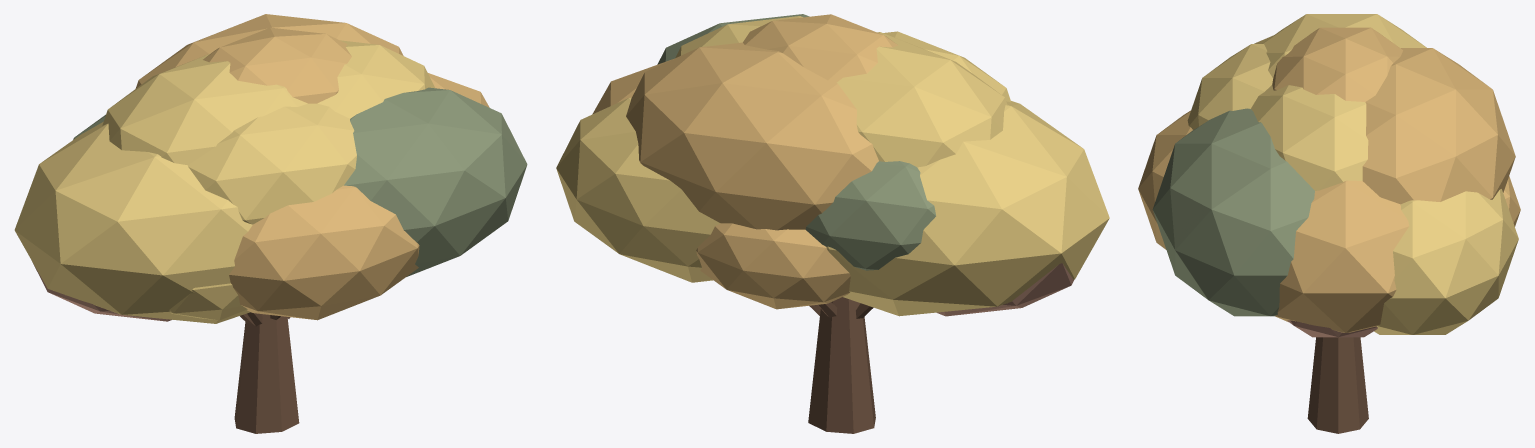
Rendered from tree_reference_oak_low_01_full.fbx.
3 views of the same model, side by side, from view 1: azimuth 30°, elevation 25°; view 2: azimuth 150°, elevation 25°; view 3: azimuth 270°, elevation 25° (orthographic). The views are drawn at different scales.
Parts seen in each view (by area): view 1: tree_reference_oak_low_01_01_valendia_img2_gold_leaf_003, tree_reference_oak_low_01_04_valendia_img2_warm_leaf_003, tree_reference_oak_low_01_02_valendia_img2_olive_shadow_003, tree_reference_oak_low_01_00_valendia_dark_bark_003, tree_reference_oak_low_01_03_valendia_img2_russet_shadow_003; view 2: tree_reference_oak_low_01_01_valendia_img2_gold_leaf_003, tree_reference_oak_low_01_04_valendia_img2_warm_leaf_003, tree_reference_oak_low_01_02_valendia_img2_olive_shadow_003, tree_reference_oak_low_01_00_valendia_dark_bark_003, tree_reference_oak_low_01_03_valendia_img2_russet_shadow_003; view 3: tree_reference_oak_low_01_04_valendia_img2_warm_leaf_003, tree_reference_oak_low_01_01_valendia_img2_gold_leaf_003, tree_reference_oak_low_01_02_valendia_img2_olive_shadow_003, tree_reference_oak_low_01_00_valendia_dark_bark_003, tree_reference_oak_low_01_03_valendia_img2_russet_shadow_003.
Part boxes in pixels (x1,y1,x2,y2): tree_reference_oak_low_01_01_valendia_img2_gold_leaf_003: (14,40,434,323); tree_reference_oak_low_01_04_valendia_img2_warm_leaf_003: (135,14,489,320); tree_reference_oak_low_01_02_valendia_img2_olive_shadow_003: (73,87,527,276); tree_reference_oak_low_01_00_valendia_dark_bark_003: (234,312,299,433); tree_reference_oak_low_01_03_valendia_img2_russet_shadow_003: (32,262,171,321); tree_reference_oak_low_01_01_valendia_img2_gold_leaf_003: (556,16,1109,316); tree_reference_oak_low_01_04_valendia_img2_warm_leaf_003: (592,14,897,309); tree_reference_oak_low_01_02_valendia_img2_olive_shadow_003: (657,14,935,270); tree_reference_oak_low_01_00_valendia_dark_bark_003: (808,297,875,433); tree_reference_oak_low_01_03_valendia_img2_russet_shadow_003: (937,263,1073,316); tree_reference_oak_low_01_04_valendia_img2_warm_leaf_003: (1138,27,1520,332); tree_reference_oak_low_01_01_valendia_img2_gold_leaf_003: (1187,14,1518,334); tree_reference_oak_low_01_02_valendia_img2_olive_shadow_003: (1152,108,1314,316); tree_reference_oak_low_01_00_valendia_dark_bark_003: (1307,337,1368,433); tree_reference_oak_low_01_03_valendia_img2_russet_shadow_003: (1287,320,1377,337).
Bounding box in the file's own units: 597 × 472 × 425.
